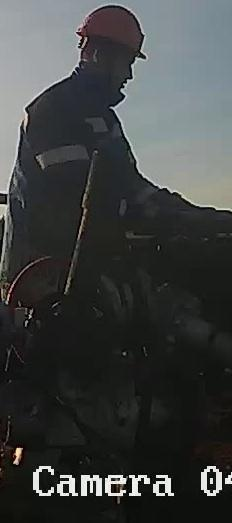helmet: (75, 3, 146, 57)
vest: (0, 74, 134, 311)
